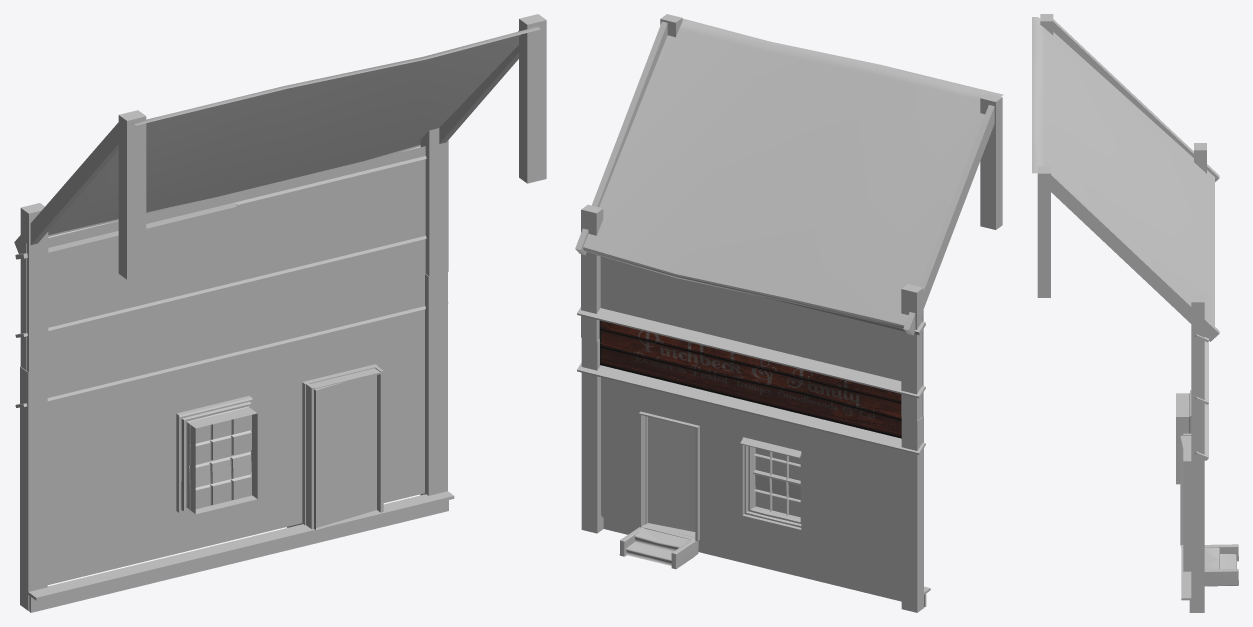
File: streets_buildings_fronts_wood.dae
The picture shows the model from 3 angles, left to right: view 1: azimuth 30°, elevation 25°; view 2: azimuth 150°, elevation 25°; view 3: azimuth 270°, elevation 25°; orthographic projection. The views are drawn at different scales.
Visible parts, largest first — view 1: polySurface436, polySurface459, pPlane9, polySurface461, polySurface440, polySurface435; view 2: pPlane9, polySurface436, polySurface459, pPlane10, polySurface461, polySurface440, polySurface451, polySurface435; view 3: pPlane9, polySurface459, polySurface435, polySurface461, polySurface451.
Boxes of the visible parts, x1,y1,x2,y2 form: polySurface436: (26, 146, 425, 584); polySurface459: (14, 14, 546, 612); pPlane9: (48, 26, 540, 237); polySurface461: (176, 365, 381, 529); polySurface440: (189, 415, 251, 510); polySurface435: (179, 400, 257, 514); pPlane9: (583, 18, 1003, 328); polySurface436: (600, 256, 922, 588); polySurface459: (575, 14, 1002, 612); pPlane10: (599, 320, 901, 438); polySurface461: (641, 412, 801, 531); polySurface440: (753, 447, 800, 518); polySurface451: (626, 528, 690, 565); polySurface435: (744, 445, 801, 527); pPlane9: (1032, 17, 1214, 326); polySurface459: (1037, 14, 1238, 612); polySurface435: (1176, 390, 1191, 484); polySurface461: (1180, 435, 1191, 547); polySurface451: (1204, 547, 1236, 569).
Bounding box in the file's own units: 8.12 × 10.27 × 4.38.
